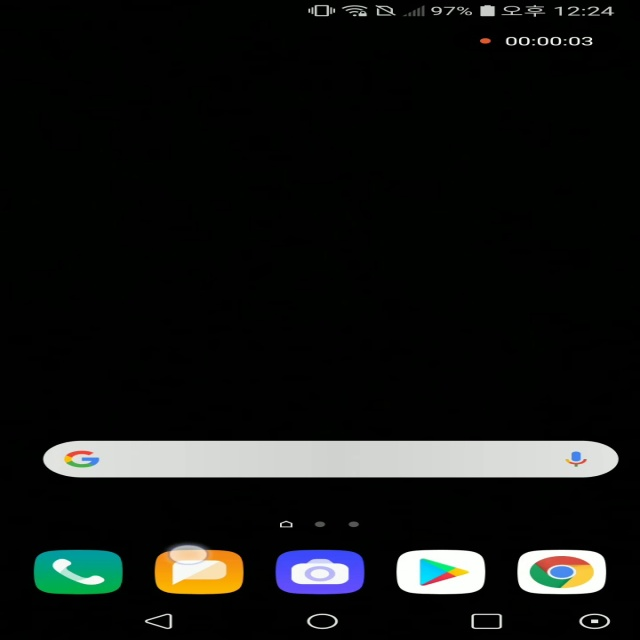Cursor: (168, 544, 212, 567)
